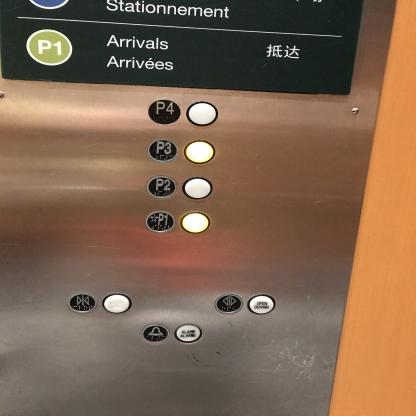P2: (145, 175, 178, 199)
P3: (147, 138, 179, 164)
P4: (146, 98, 182, 126)
alarm: (139, 323, 170, 344)
close: (66, 293, 98, 314)
empty: (185, 100, 219, 127), (183, 139, 216, 165), (181, 176, 213, 200), (179, 210, 211, 234)
open: (212, 293, 244, 314)
sP1: (144, 210, 176, 233)
text_blur: (101, 292, 133, 314), (173, 322, 202, 344)
text_open hold: (245, 293, 276, 315)
